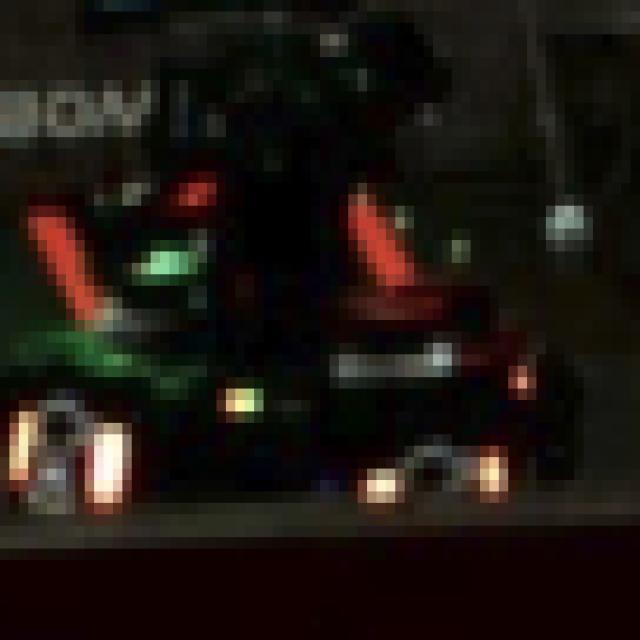Rs: (9, 389, 113, 514)
